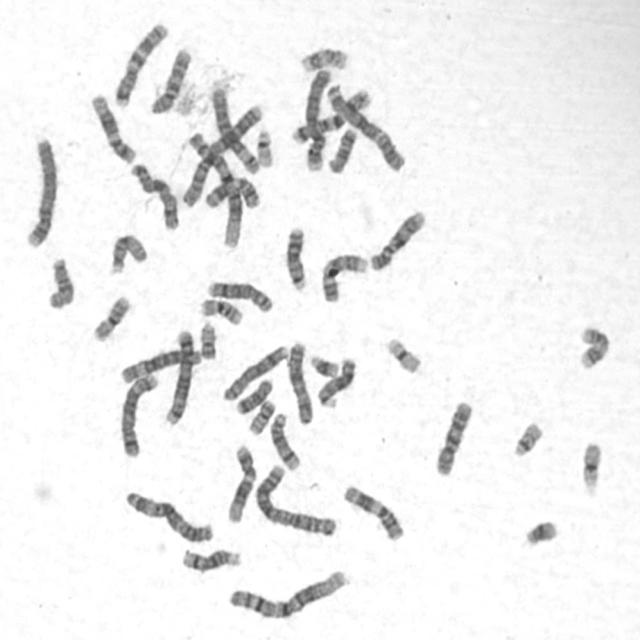A1: (182, 126, 245, 250), (223, 563, 350, 621)
A2: (177, 98, 265, 208), (251, 459, 340, 538)
A3: (321, 78, 408, 172), (119, 484, 216, 544)
B4: (20, 131, 59, 249), (300, 64, 334, 173)
B5: (115, 367, 161, 459), (160, 323, 196, 427)
C10: (430, 394, 475, 478), (145, 42, 194, 116)
C11: (338, 479, 406, 543), (200, 171, 262, 212)
C12: (86, 88, 138, 165), (222, 440, 258, 524)
C6: (207, 80, 262, 176), (115, 343, 204, 385)
C7: (109, 17, 170, 108), (286, 83, 373, 145)
C8: (218, 339, 290, 403), (202, 275, 275, 314)
C9: (364, 204, 428, 272), (317, 248, 370, 304)
D13: (312, 353, 358, 409), (282, 222, 310, 292)
D14: (265, 408, 302, 472), (176, 542, 242, 574)
D15: (104, 228, 149, 276), (42, 251, 76, 311)
E16: (88, 290, 132, 344), (196, 292, 245, 327)
E17: (574, 320, 612, 372), (296, 41, 350, 74)
E18: (323, 123, 359, 174), (232, 373, 274, 416)
F19: (381, 332, 424, 376), (576, 434, 604, 498)
F20: (244, 396, 277, 436), (195, 316, 219, 361)
G21: (519, 513, 560, 549), (306, 349, 340, 379)
G22: (508, 416, 545, 459), (252, 123, 276, 168)
X: (126, 157, 182, 232), (284, 336, 315, 426)
